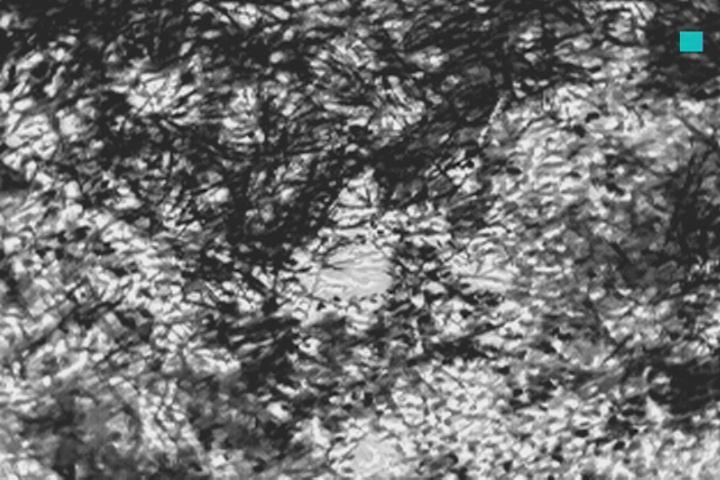landmine: (292, 216, 392, 294)
